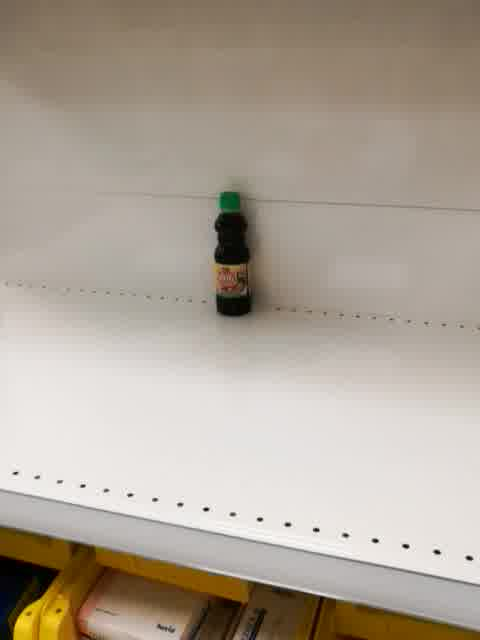cookingoil: (213, 188, 254, 319)
